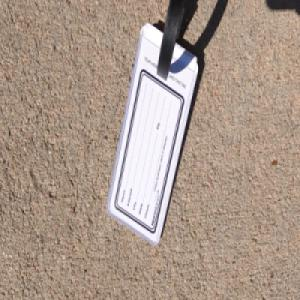LuggageTag: (104, 0, 199, 248)
